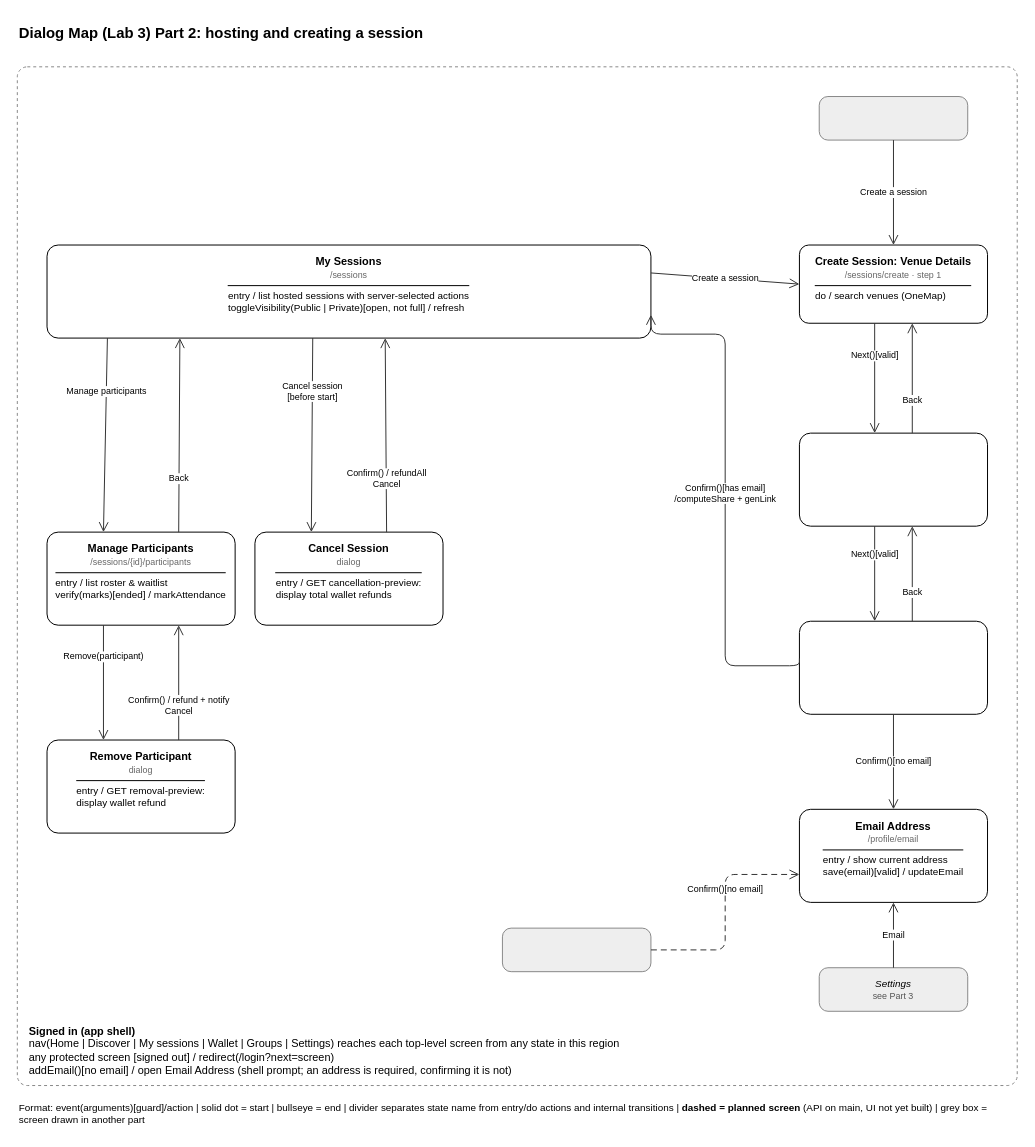
This 1035x1147 diagram has some shape labels left out. Here are the shapes that lost their labels. From the top down, the box of each, then its label:
(818, 96, 968, 140): Home see Part 1
(798, 432, 988, 526): Create Session: Settings step 2 schedule, slots, visibility, minimum reliability
(798, 620, 988, 714): Create Session: Booking Share step 3 entry / compute booking share server-side
(501, 927, 651, 972): Join Confirmation see Part 1
